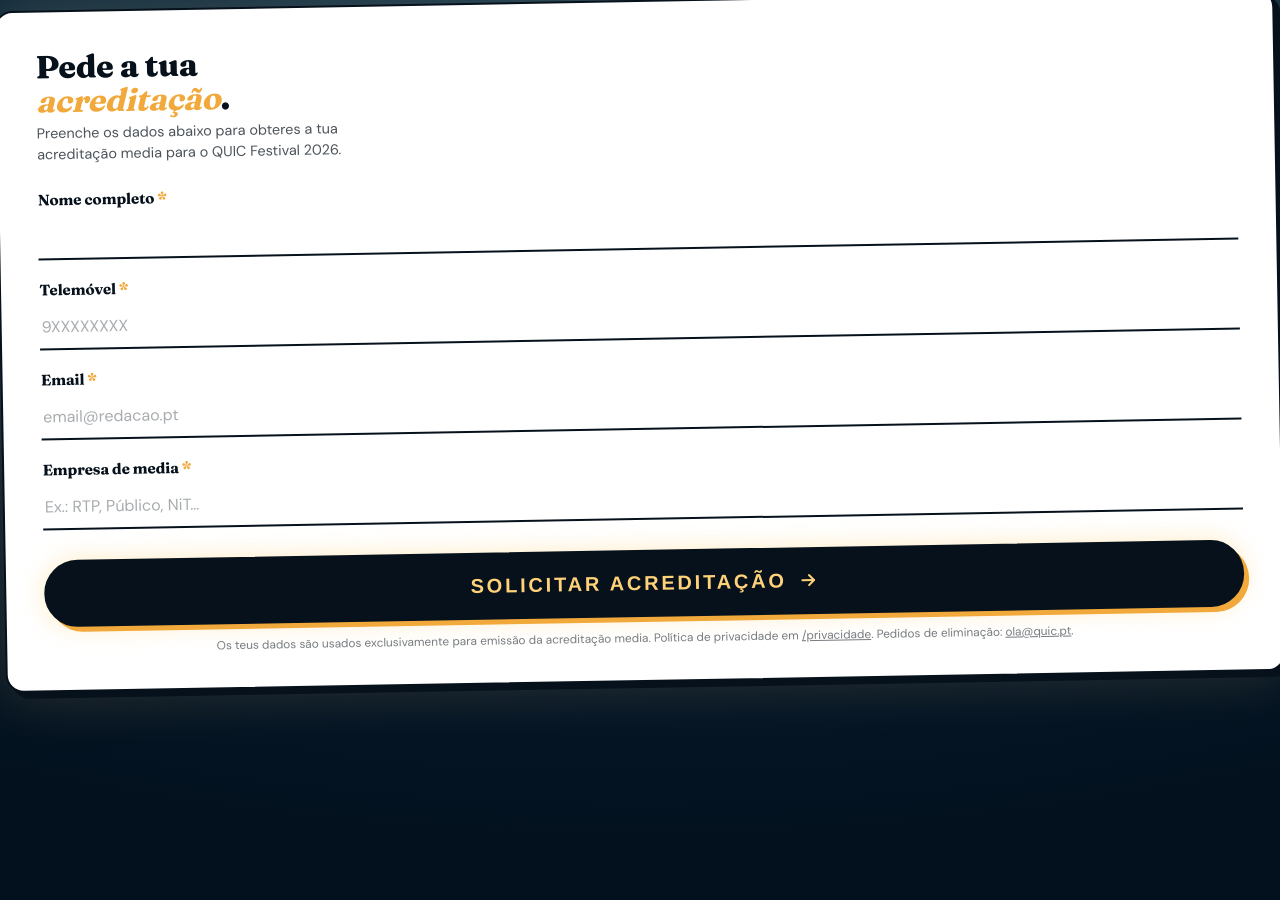
AccreditationForm › network error → mostra erro genérico
Type "Rui Matos" into the field labelled "Nome completo *".
click(638, 228); type("Rui Matos")  # box [38, 195, 1238, 260]
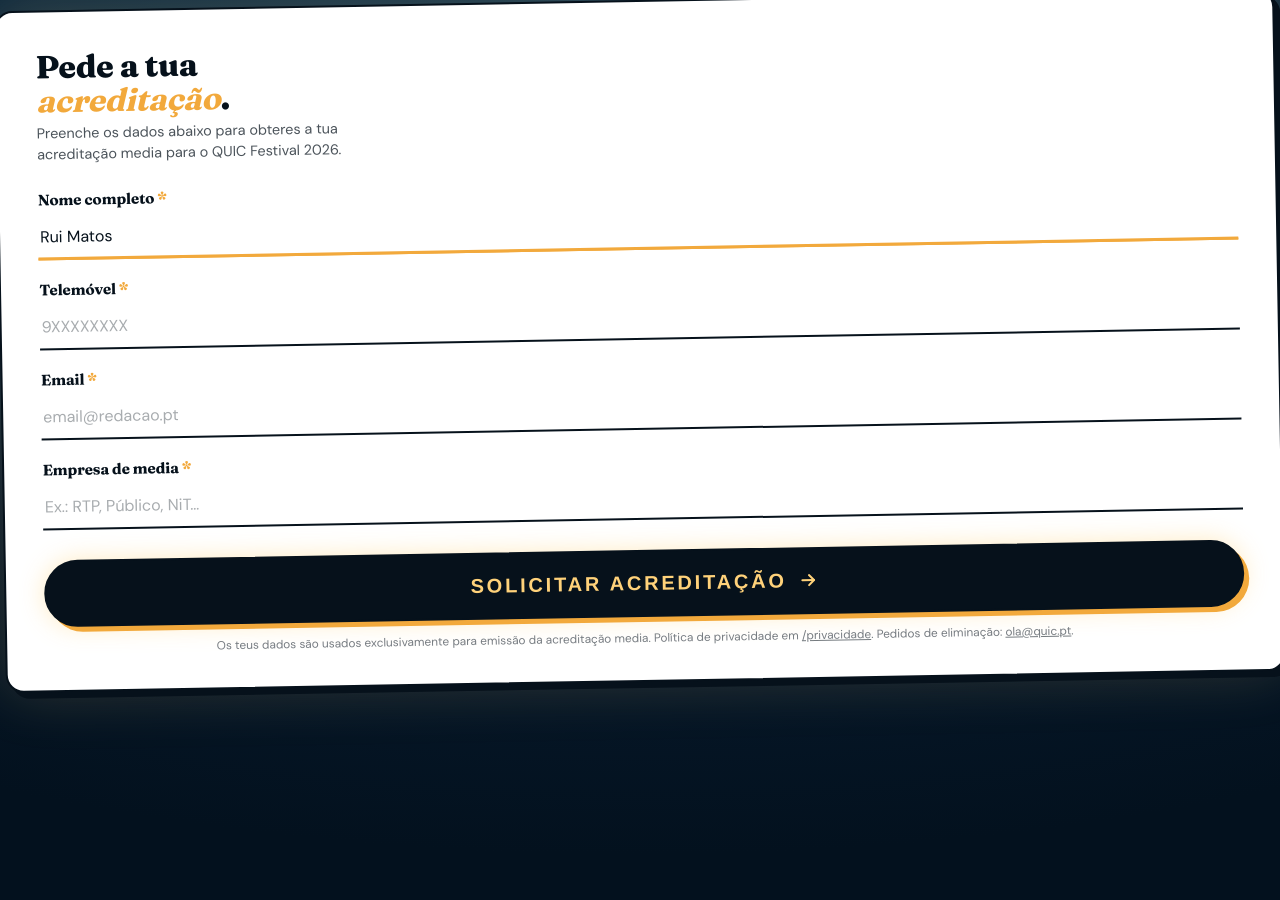
Type "912345678" into the field labelled "Telemóvel *".
click(640, 318); type("912345678")  # box [40, 285, 1240, 350]
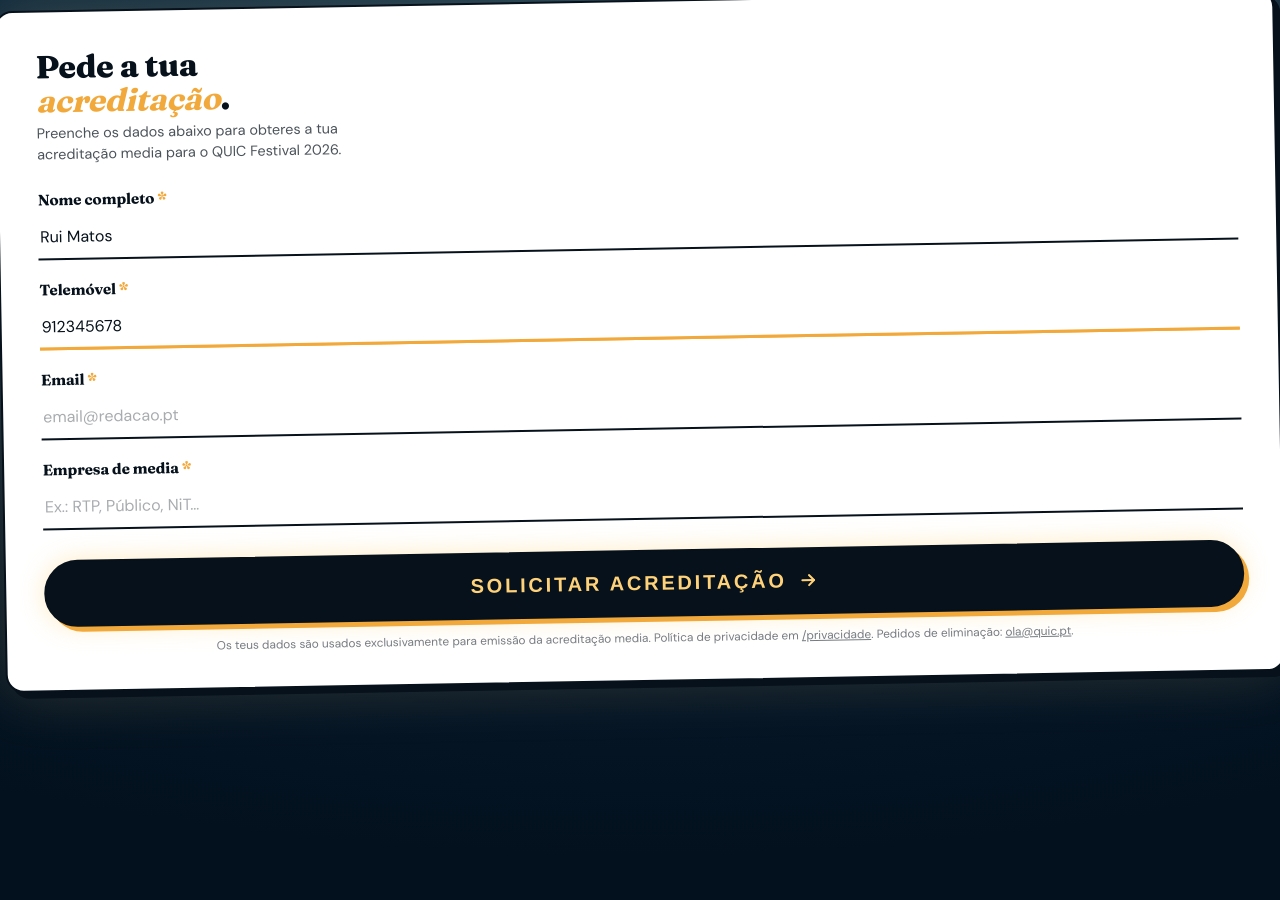
Type "rui@cm.pt" into the field labelled "Email *".
click(641, 408); type("rui@cm.pt")  # box [41, 375, 1241, 440]
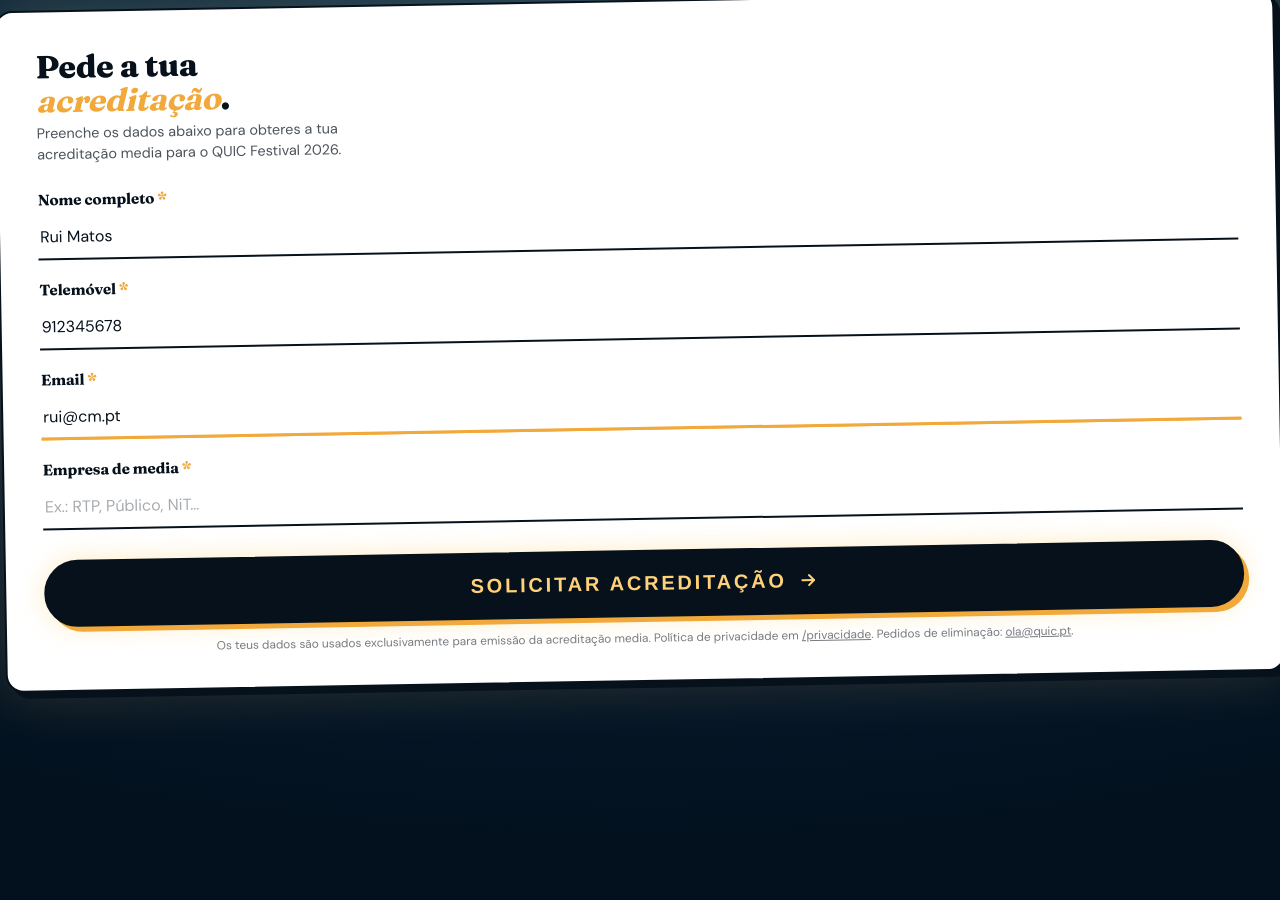
Type "CM" into the field labelled "Empresa de media *".
click(643, 498); type("CM")  # box [43, 465, 1243, 530]
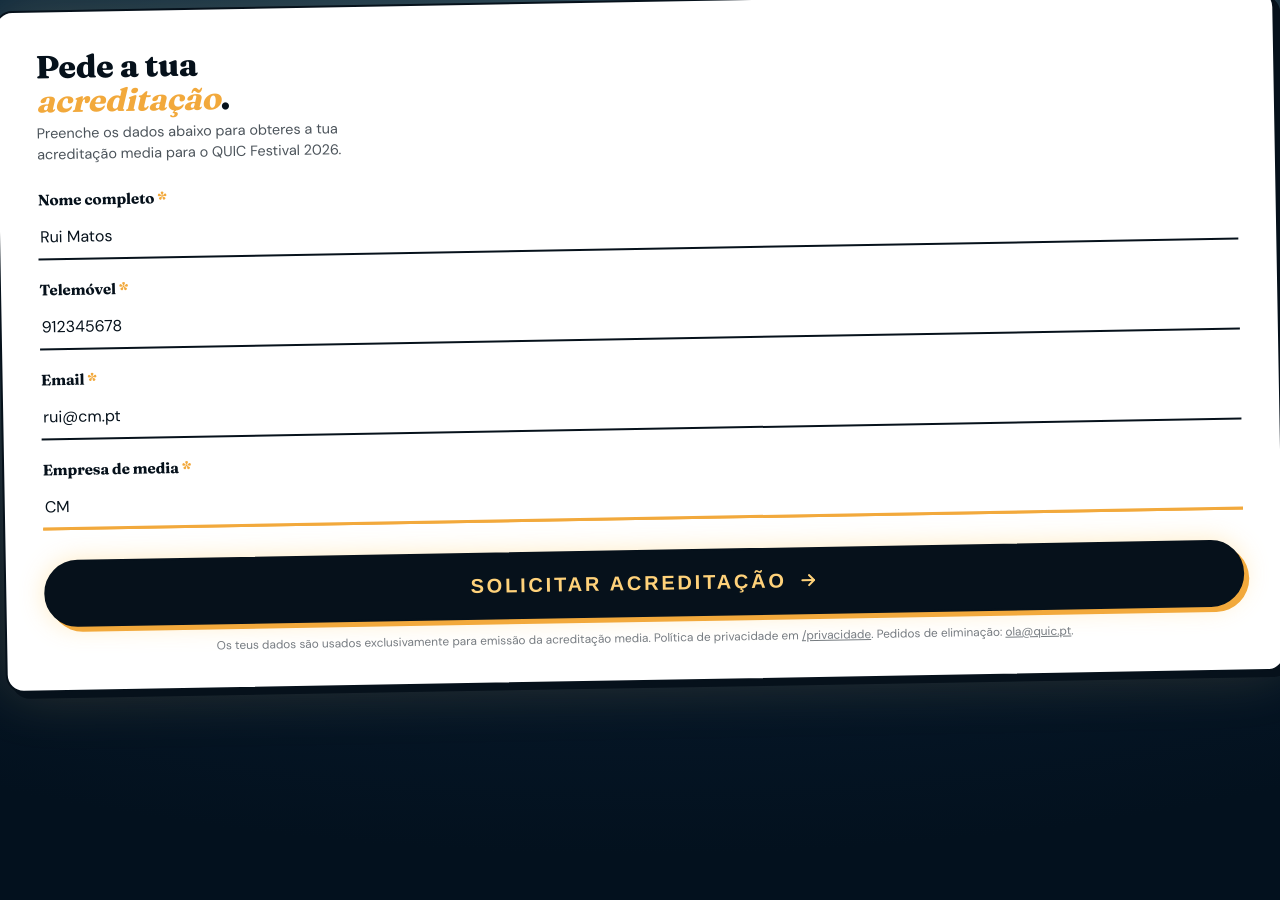
Click the button "SOLICITAR ACREDITAÇÃO".
click(644, 583)  # box [44, 540, 1244, 627]
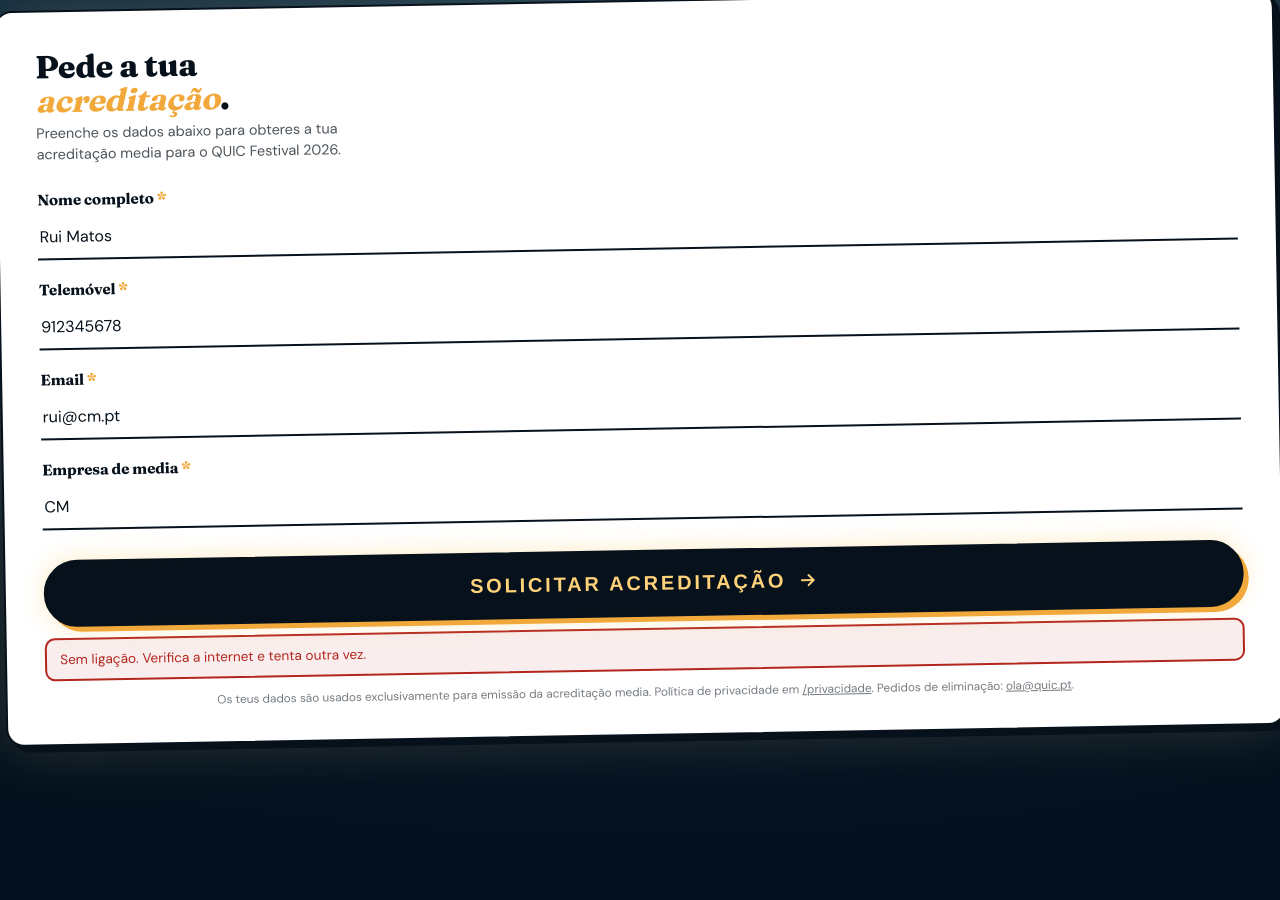
expect the message "Sem ligação. Verifica a internet e tenta outra vez." is shown: met, box [45, 617, 1245, 681]
